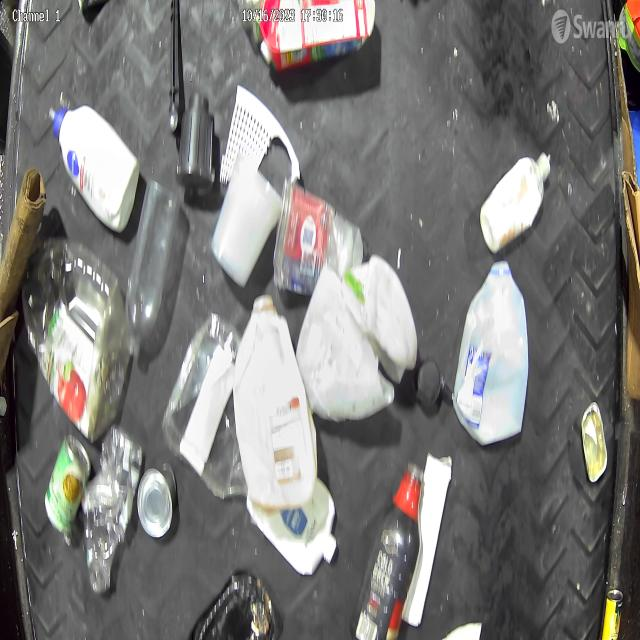can: (44, 434, 94, 558), (138, 458, 177, 551)
milk_jug: (298, 252, 418, 422), (233, 292, 318, 529), (458, 260, 532, 456)
plastic_bottle: (122, 181, 180, 368)
